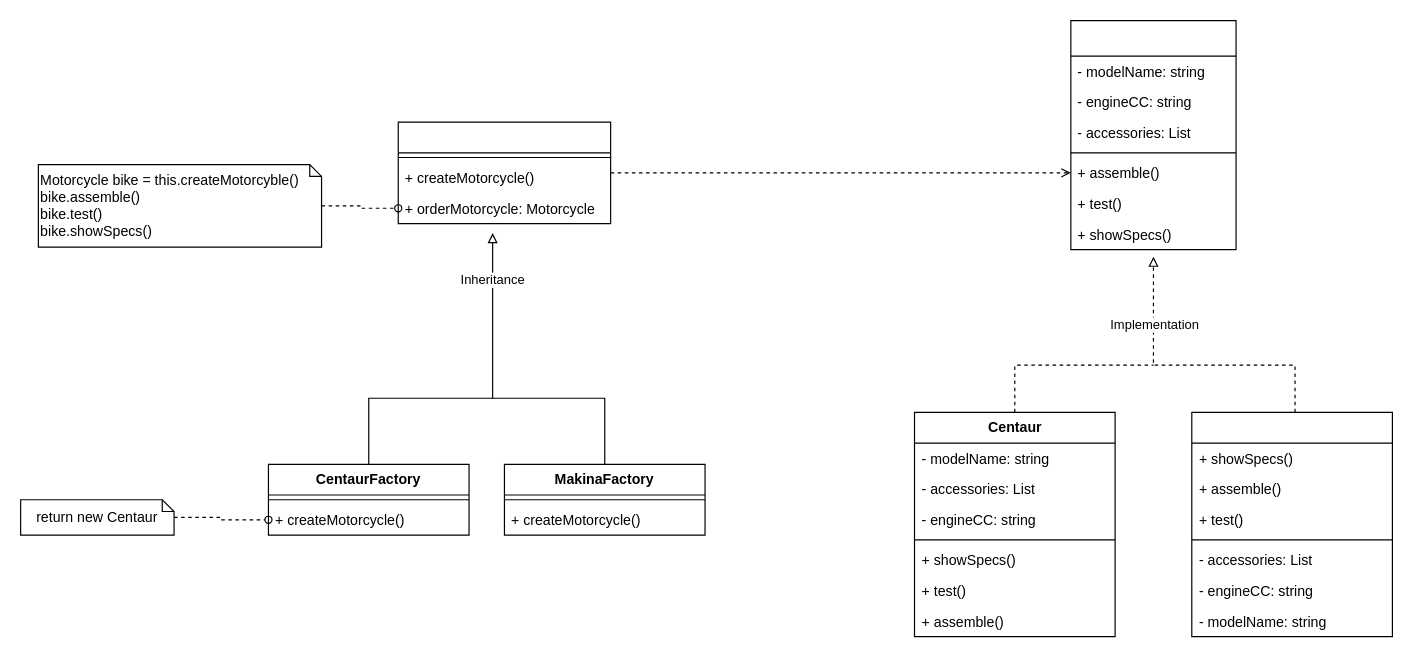
The diagram is 1414 pixels wide and 661 high, and some of its shapes have lost their labels. Here are the shapes that lost their labels. From the top down, the box of each, then its label:
(1070, 19, 1236, 250): <<interface>> Motorcycle
(397, 121, 611, 224): MotocycleFactory
(1191, 411, 1392, 637): Makina
